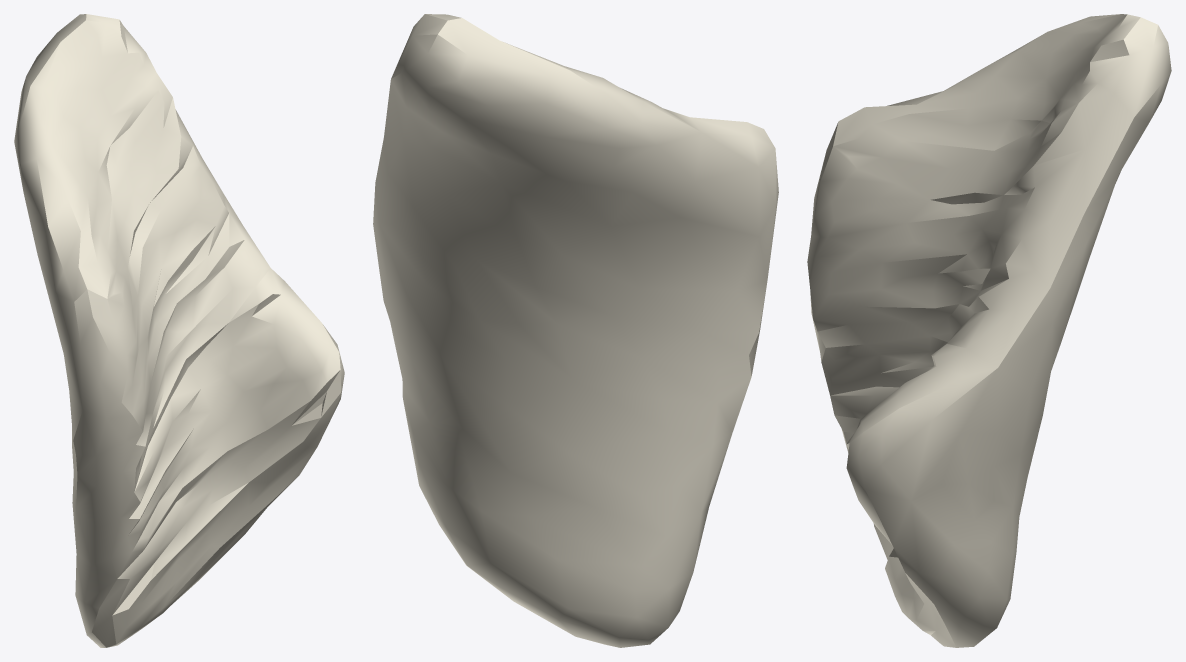
Rendered from fma44449_mm1373.glb.
3 views of the same model, side by side, from view 1: azimuth 30°, elevation 25°; view 2: azimuth 150°, elevation 25°; view 3: azimuth 270°, elevation 25° (orthographic). The views are drawn at different scales.
Visible parts, largest first — view 1: FMA44449_MM1373; view 2: FMA44449_MM1373; view 3: FMA44449_MM1373.
Part boxes in pixels (<box>): FMA44449_MM1373: <box>14,14,344,647</box>; FMA44449_MM1373: <box>373,14,778,647</box>; FMA44449_MM1373: <box>807,14,1171,647</box>.
Size of the model in its own units: 0.00803 by 0.0149 by 0.00755.
